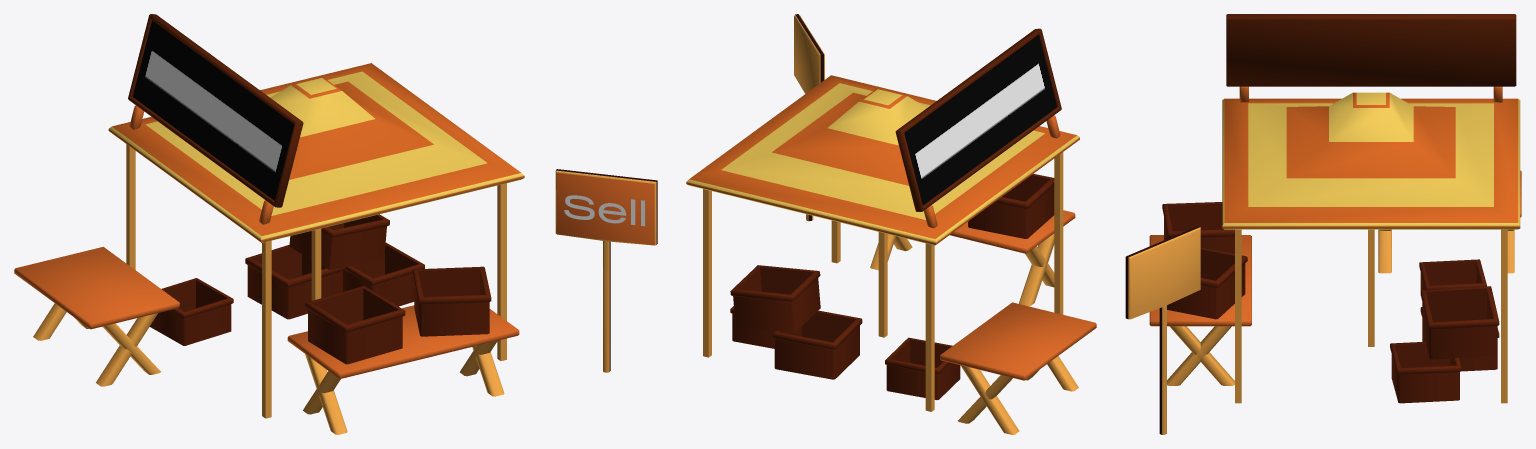
The model's file is market.fbx.
3 views of the same model, side by side, from view 1: azimuth 30°, elevation 25°; view 2: azimuth 150°, elevation 25°; view 3: azimuth 270°, elevation 25° (orthographic). The views are drawn at different scales.
Parts seen in each view (by area): view 1: Narket; view 2: Narket; view 3: Narket.
Boxes of the visible parts, <box> form: Narket: <box>14,14,657,434</box>; Narket: <box>686,14,1096,434</box>; Narket: <box>1125,14,1521,434</box>.
Bounding box in the file's own units: 7.35 × 4.65 × 5.81.
